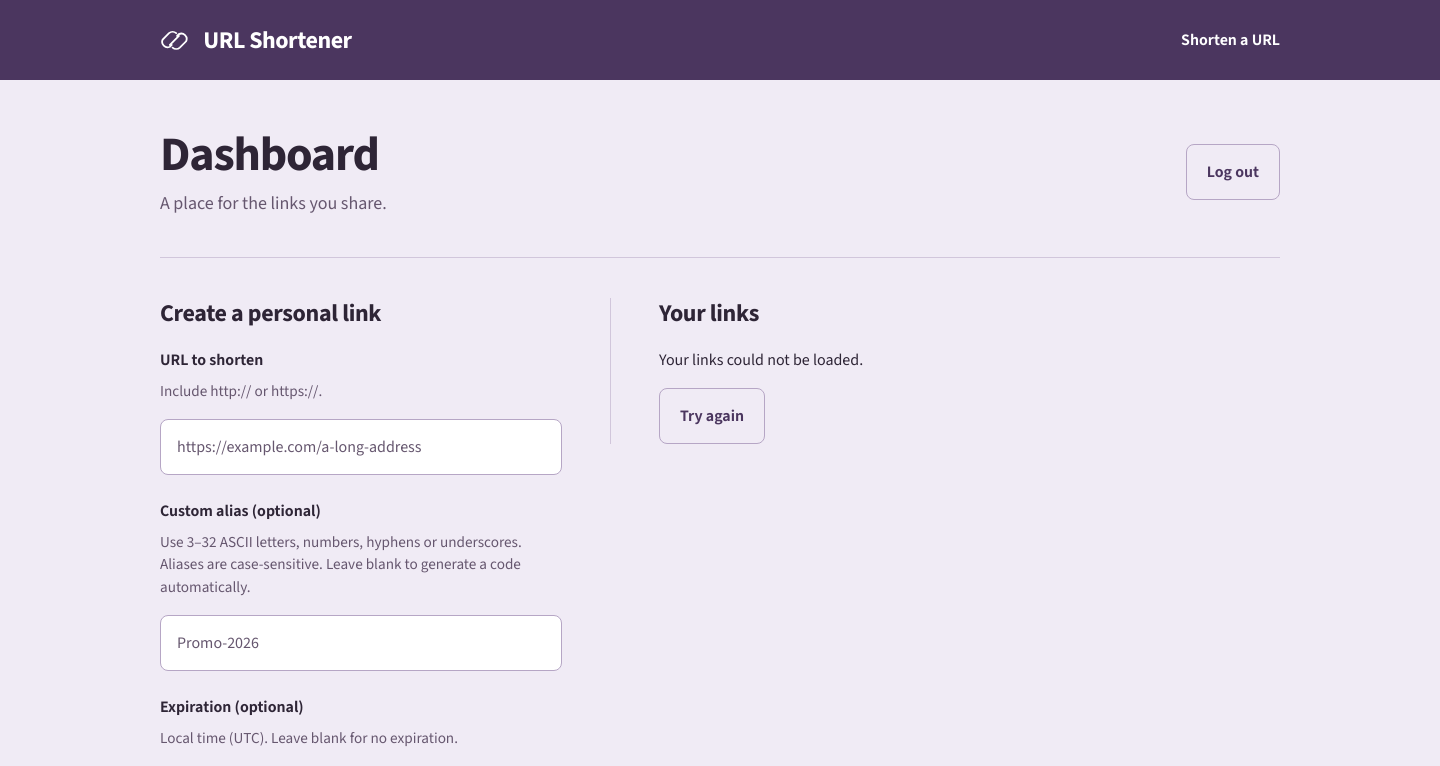
riprova il caricamento senza perdere la sessione
Check: the text "Your links could not be loaded." is shown, box x1=659 y1=349 x2=863 y2=370
Click the button "Try again": click(712, 416) x1=659 y1=388 x2=765 y2=444
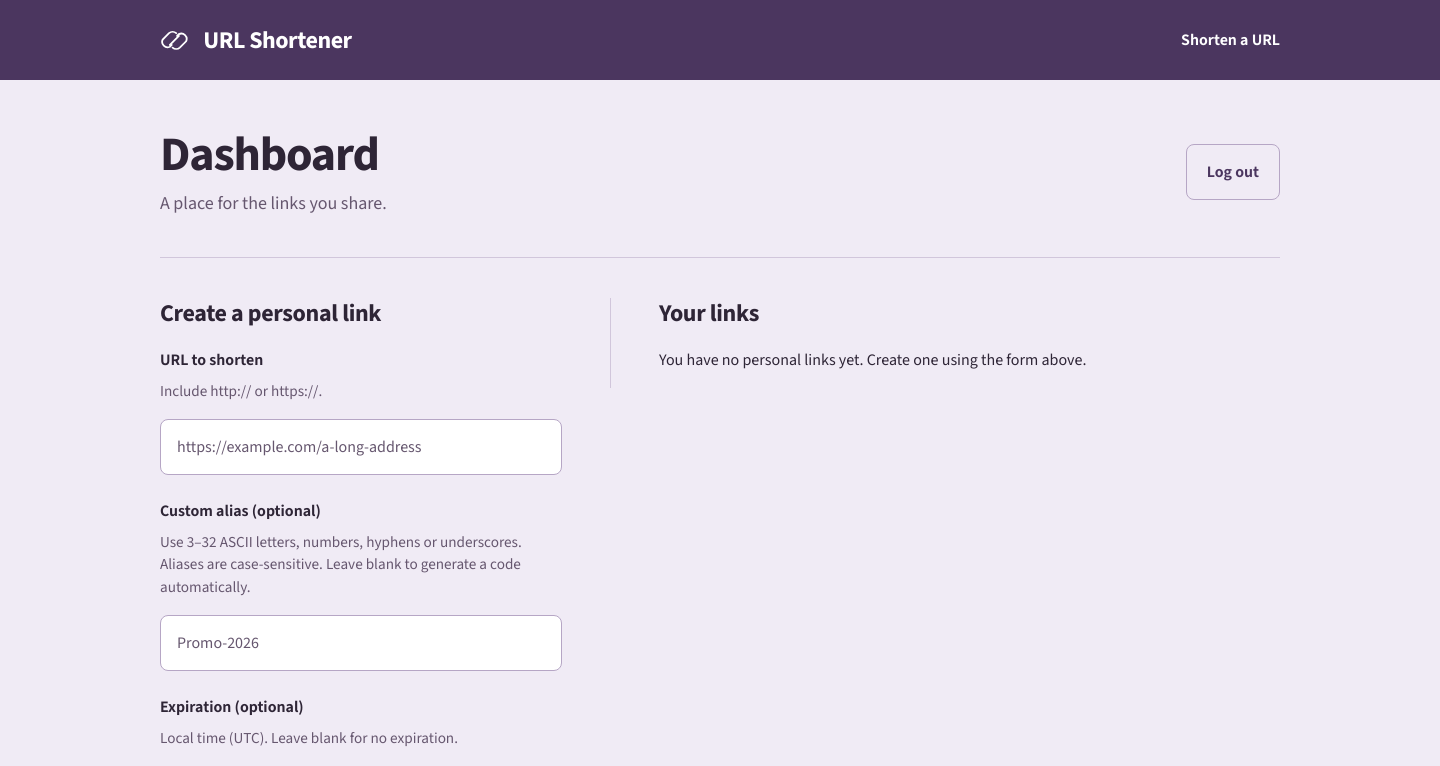
Check: the text "You have no personal links yet. Create one using the form above." is shown, box x1=659 y1=349 x2=1086 y2=370
